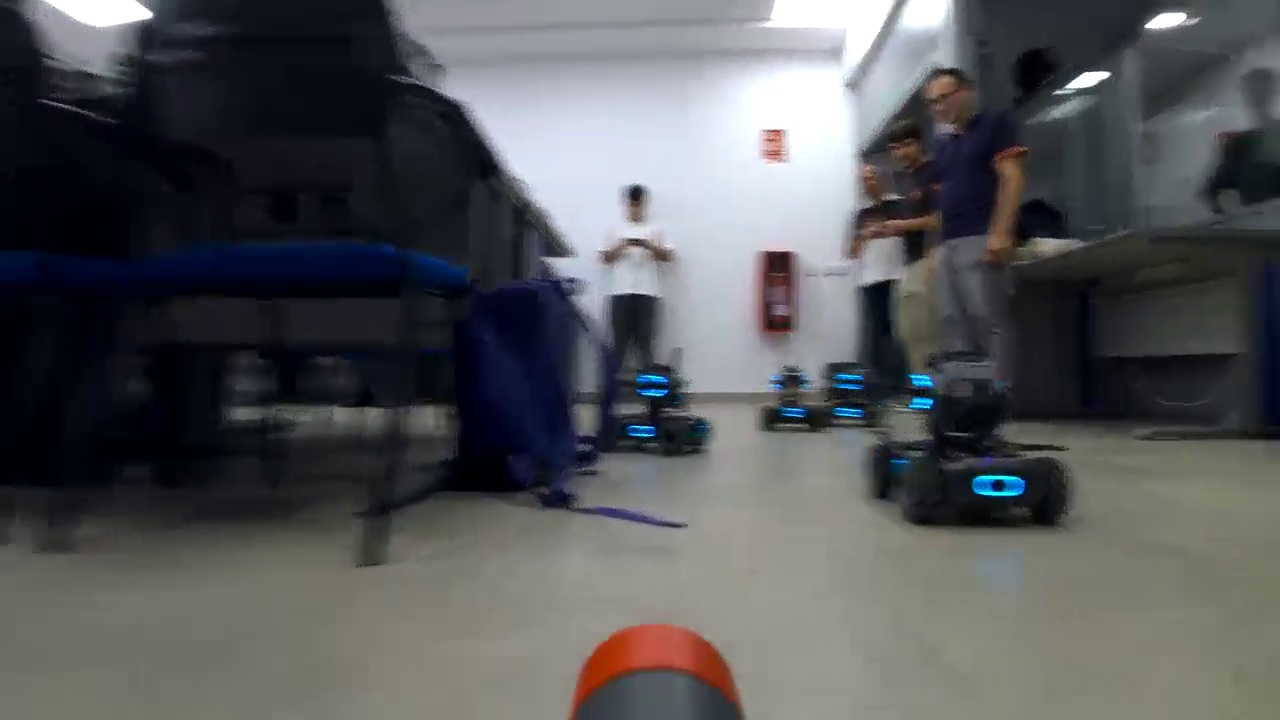robot: (865, 346, 1080, 532), (596, 353, 713, 459), (755, 363, 833, 435), (821, 359, 885, 431)
